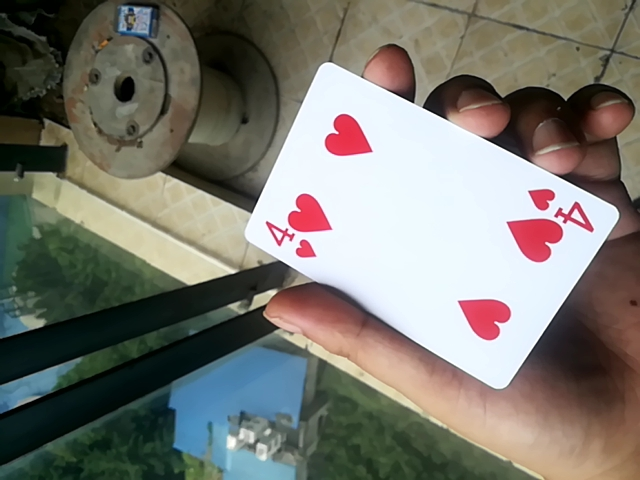hx 4: (230, 61, 626, 397)
